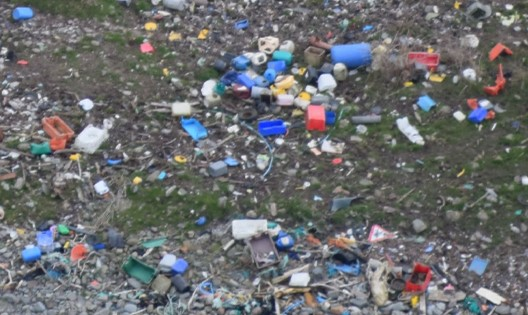together_barrel: (127, 1, 527, 180), (127, 216, 510, 315), (1, 56, 124, 293)
white_in_green: (1, 1, 41, 29)
